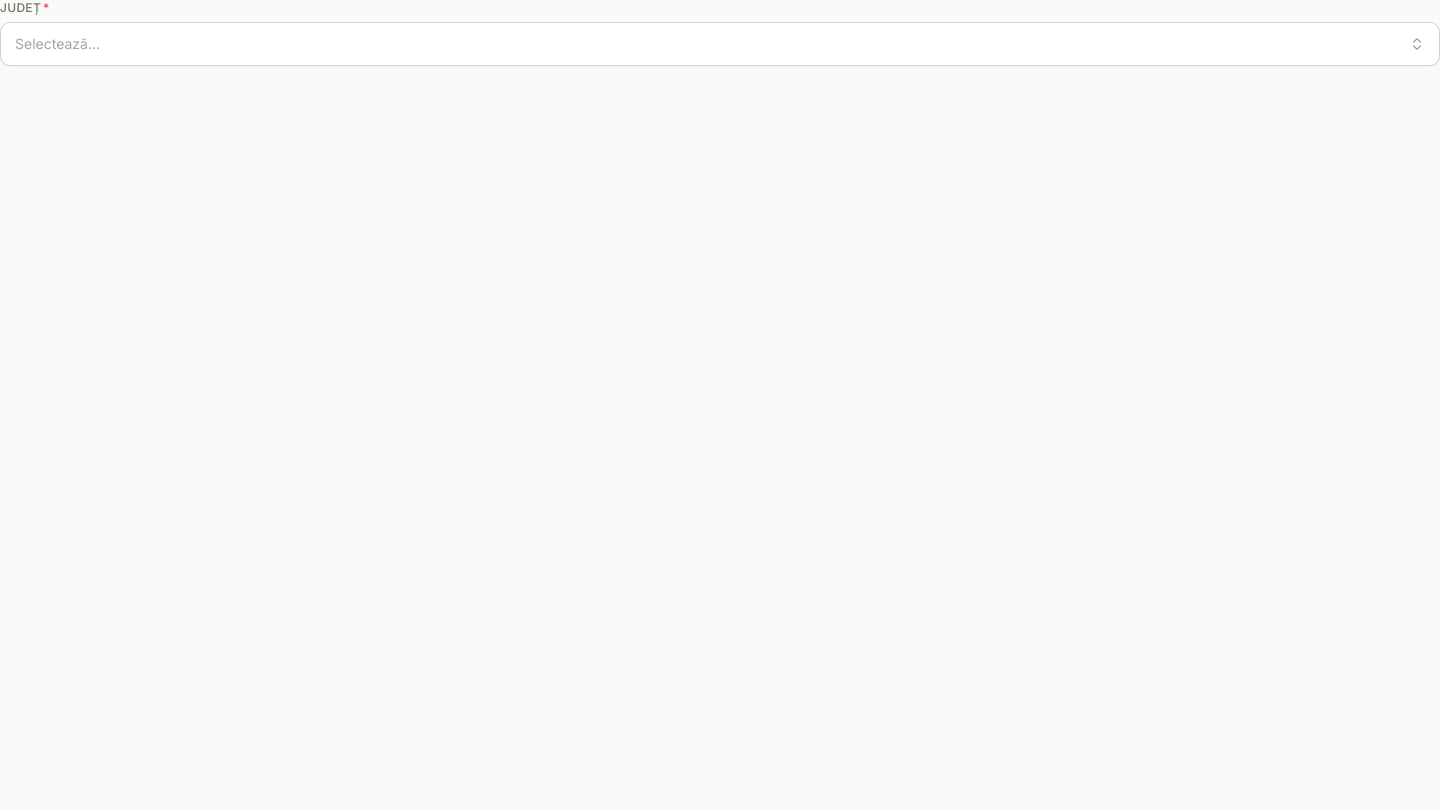
Test case: click opens the listbox and shows all options
Click the dropdown named "Județ".
click(58, 44)  # box [0,22,1439,66]
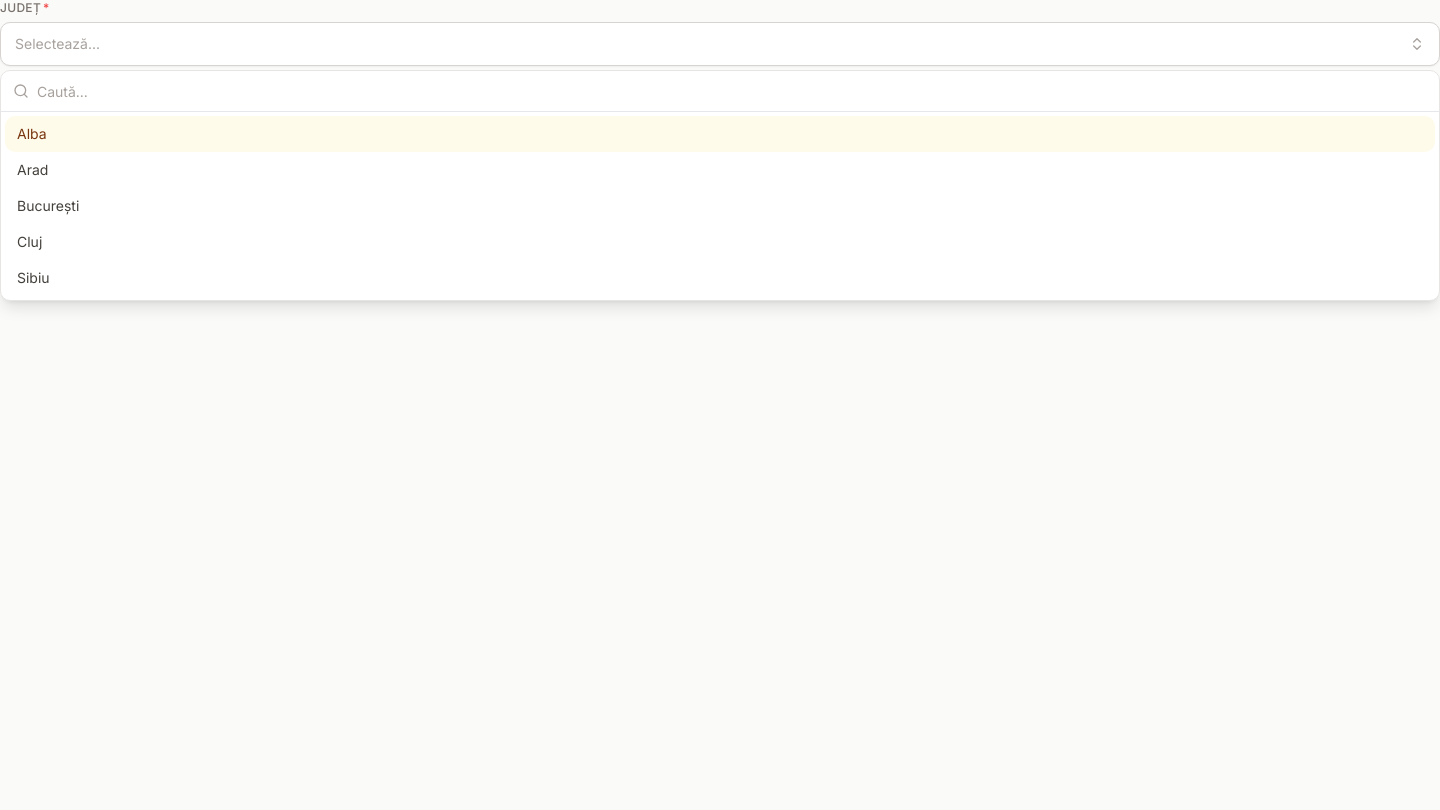
Result: the list is shown at [1,112,1439,300]
Result: the option "Alba" is shown at [5,116,1435,152]
Result: the option "Arad" is shown at [17,161,48,178]
